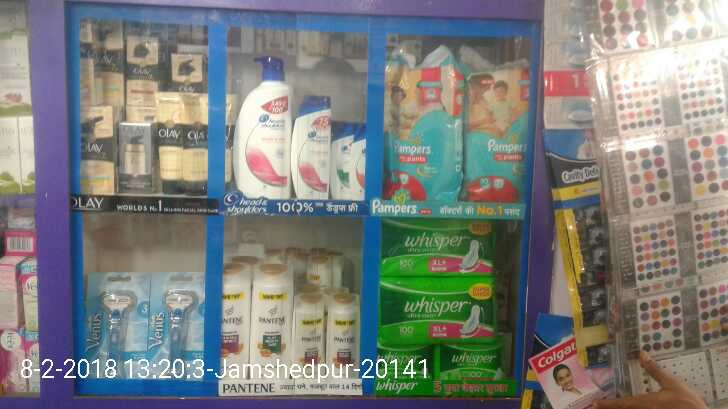venus: (142, 274, 206, 378), (89, 272, 144, 378)
